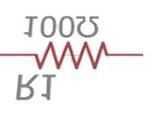resistor: (28, 38, 114, 71)
